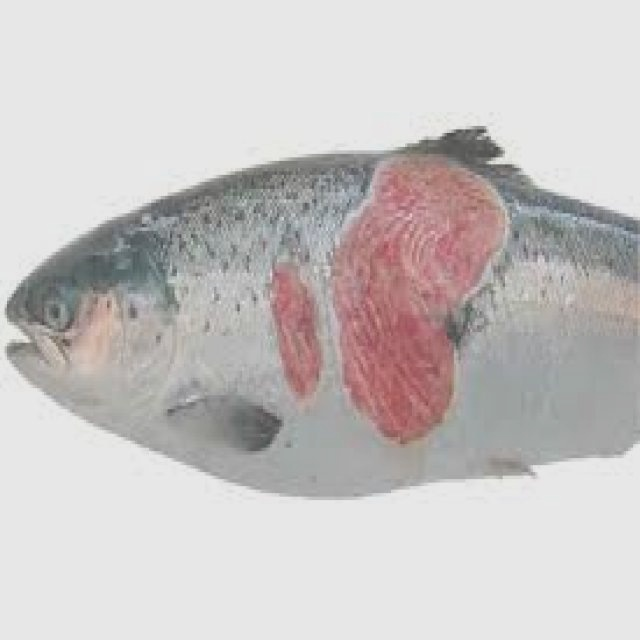EUS Disease: (0, 126, 640, 494), (263, 127, 553, 492)
